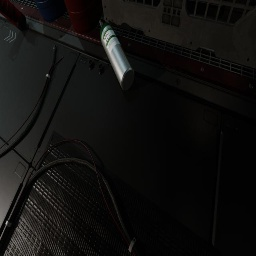0: (99, 20, 134, 91)
FireExtinguisher ]: (0, 0, 26, 32)
